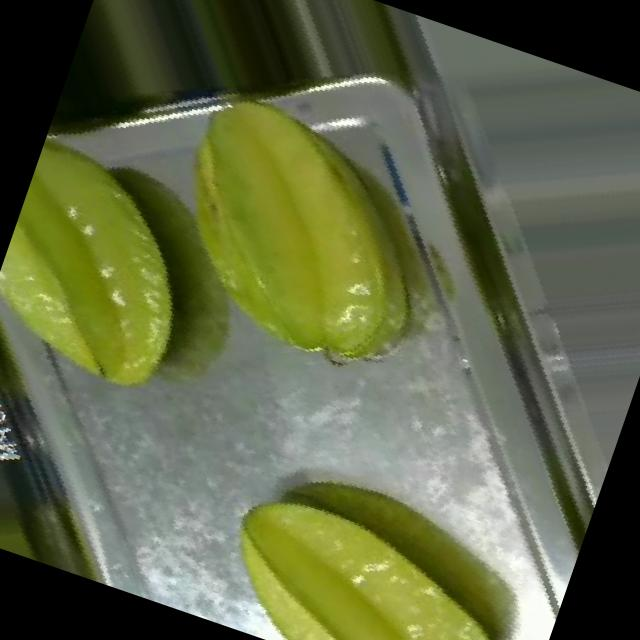fruit: (73, 12, 520, 460), (0, 98, 281, 457), (171, 399, 587, 640)
